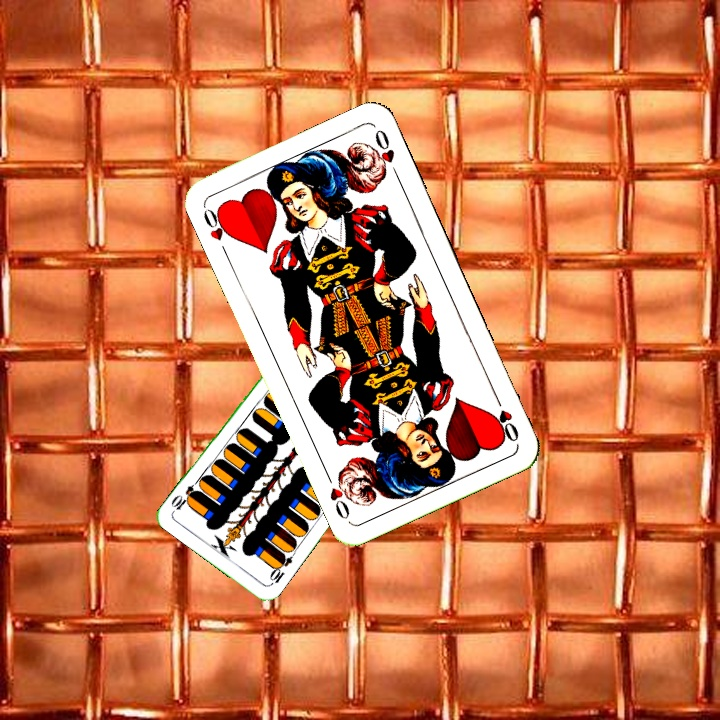E10: (265, 550, 295, 588)
HO: (490, 389, 522, 445), (199, 203, 235, 244)
